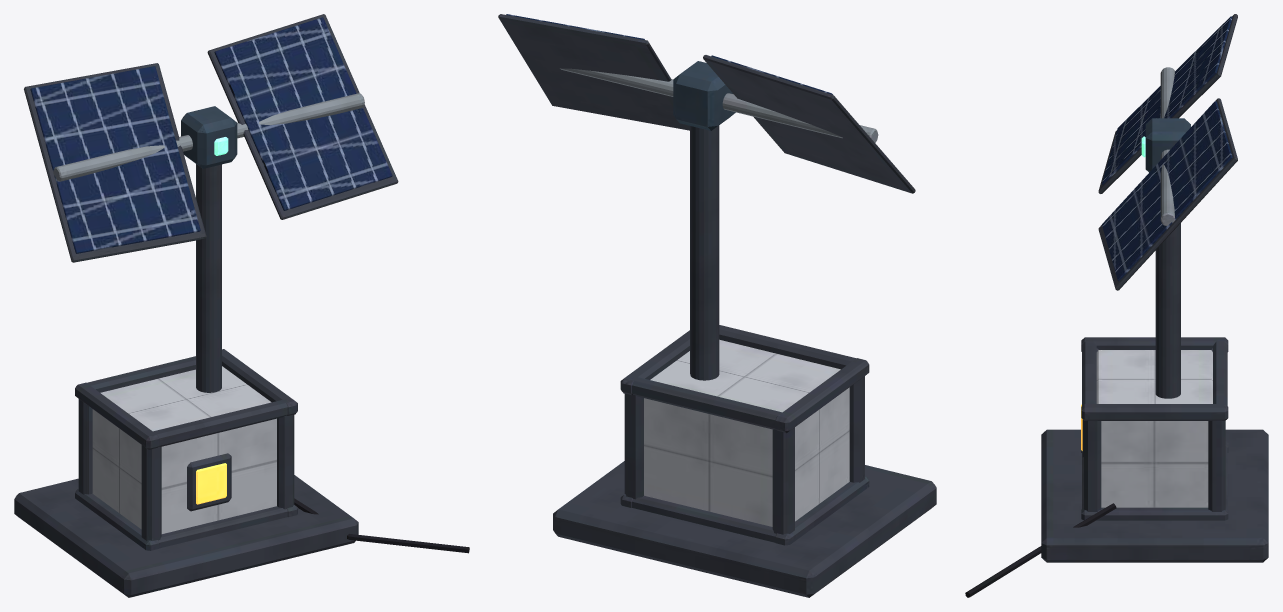
File: solar-array.glb
The picture shows the model from 3 angles, left to right: view 1: azimuth 30°, elevation 25°; view 2: azimuth 150°, elevation 25°; view 3: azimuth 270°, elevation 25°; orthographic projection. The views are drawn at different scales.
Visible parts, largest first — view 1: CellsL, CellsR, HutBody, Plinth, HutFrame, Mast, CellFrameL, TorqueTube, CellFrameR, SlewHead, HutWindowFrame, HutWindowPane (+1 smaller); view 2: HutBody, Plinth, HutFrame, CellFrameR, CellFrameL, Mast, SlewHead, TorqueTube; view 3: Plinth, HutBody, HutFrame, CellsR, CellsL, Mast, CellFrameR, SlewHead, TorqueTube, CellFrameL, PowerCable.
Part boxes in pixels (left/top/right/bottom): CellsL: left=30, top=66, right=200, bottom=253; CellsR: left=214, top=17, right=392, bottom=210; HutBody: left=92, top=366, right=276, bottom=533; Plinth: left=14, top=475, right=358, bottom=597; HutFrame: left=75, top=349, right=297, bottom=550; Mast: left=196, top=164, right=221, bottom=392; CellFrameL: left=24, top=63, right=206, bottom=262; TorqueTube: left=53, top=93, right=364, bottom=181; CellFrameR: left=207, top=14, right=398, bottom=219; SlewHead: left=181, top=106, right=237, bottom=168; HutWindowFrame: left=187, top=453, right=231, bottom=511; HutWindowPane: left=196, top=463, right=226, bottom=504; HutBody: left=644, top=339, right=849, bottom=526; Plinth: left=553, top=461, right=936, bottom=597; HutFrame: left=620, top=325, right=869, bottom=545; CellFrameR: left=498, top=14, right=689, bottom=130; CellFrameL: left=703, top=55, right=915, bottom=193; Mast: left=690, top=125, right=719, bottom=380; SlewHead: left=673, top=61, right=735, bottom=130; TorqueTube: left=559, top=68, right=878, bottom=142; Plinth: left=1041, top=429, right=1268, bottom=562; HutBody: left=1096, top=350, right=1212, bottom=507; HutFrame: left=1081, top=337, right=1228, bottom=520; CellsR: left=1102, top=101, right=1232, bottom=281; CellsL: left=1102, top=16, right=1232, bottom=184; Mast: left=1155, top=223, right=1180, bottom=398; CellFrameR: left=1098, top=98, right=1237, bottom=290; SlewHead: left=1145, top=118, right=1190, bottom=172; TorqueTube: left=1160, top=67, right=1174, bottom=225; CellFrameL: left=1098, top=14, right=1237, bottom=193; PowerCable: left=965, top=503, right=1116, bottom=597.
Size of the model in its own units: 2.78 by 3.6 by 2.27.
Materials: 8 (8 with a texture image).
